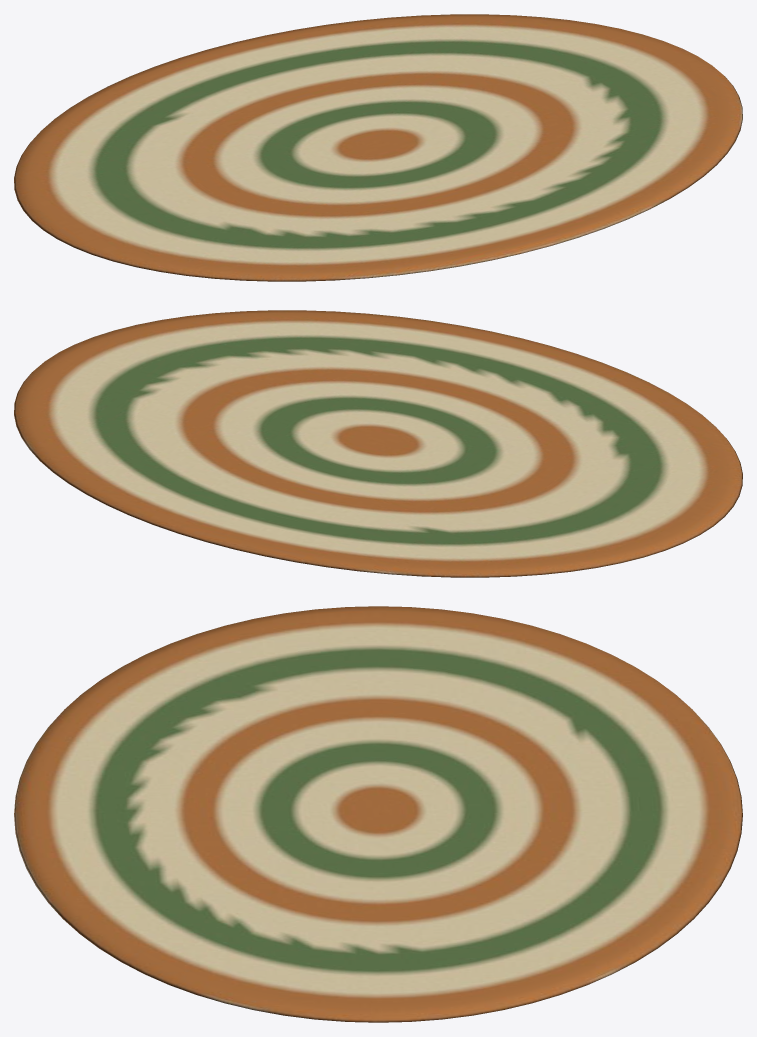
The model's file is home_rug.glb.
3 renders of one model, top to bottom at view 1: azimuth 30°, elevation 25°; view 2: azimuth 150°, elevation 25°; view 3: azimuth 270°, elevation 25°, orthographic. The views are drawn at different scales.
Visible parts, largest first — view 1: home_rug; view 2: home_rug; view 3: home_rug.
Part boxes in pixels (x1=…): home_rug: x1=14, y1=14, x2=742, y2=281; home_rug: x1=14, y1=310, x2=742, y2=577; home_rug: x1=14, y1=606, x2=742, y2=1022.
Size of the model in its own units: 3.1 by 0.02 by 2.3.
Materials: 1 (1 with a texture image).
